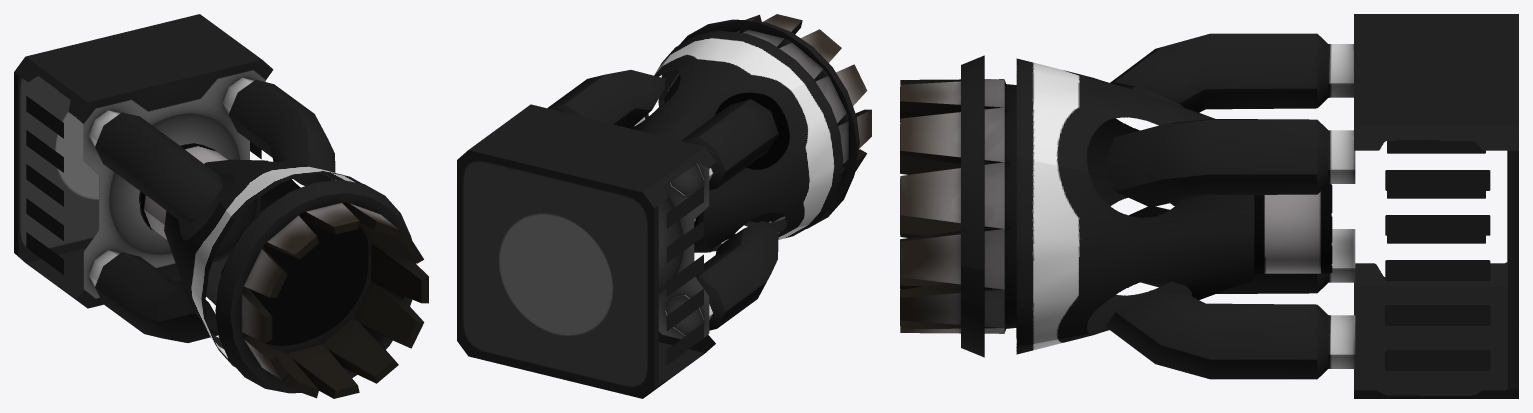
File: obj_interactive_thruster_03_off.fbx
The picture shows the model from 3 angles, left to right: view 1: azimuth 30°, elevation 25°; view 2: azimuth 150°, elevation 25°; view 3: azimuth 270°, elevation 25°; orthographic projection. The views are drawn at different scales.
Visible parts, largest first — view 1: obj_interactive_thruster_03_off; view 2: obj_interactive_thruster_03_off; view 3: obj_interactive_thruster_03_off.
Part boxes in pixels (x1,y1,x2,y2): obj_interactive_thruster_03_off: (14, 14, 428, 398); obj_interactive_thruster_03_off: (457, 14, 871, 398); obj_interactive_thruster_03_off: (900, 14, 1518, 398).
Bounding box in the file's own units: 2.04 × 2.04 × 4.12.
